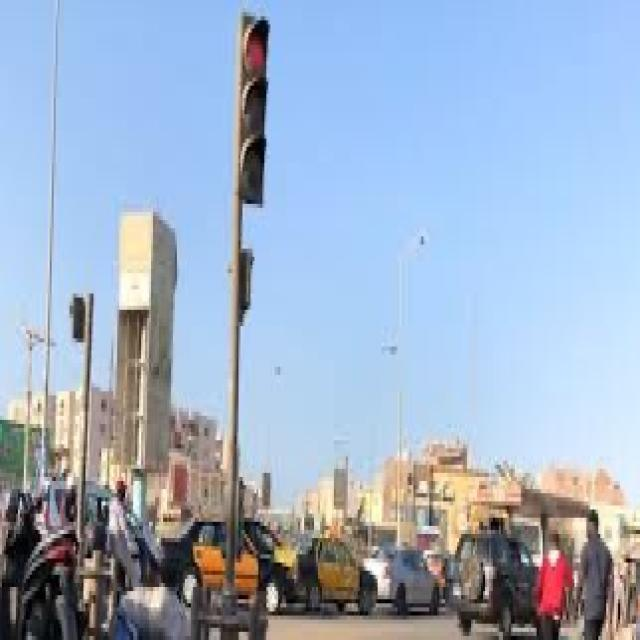feu: (230, 19, 265, 591), (73, 297, 86, 342)
particulier: (459, 532, 539, 634), (367, 552, 441, 616)
taxi: (297, 539, 379, 614)
